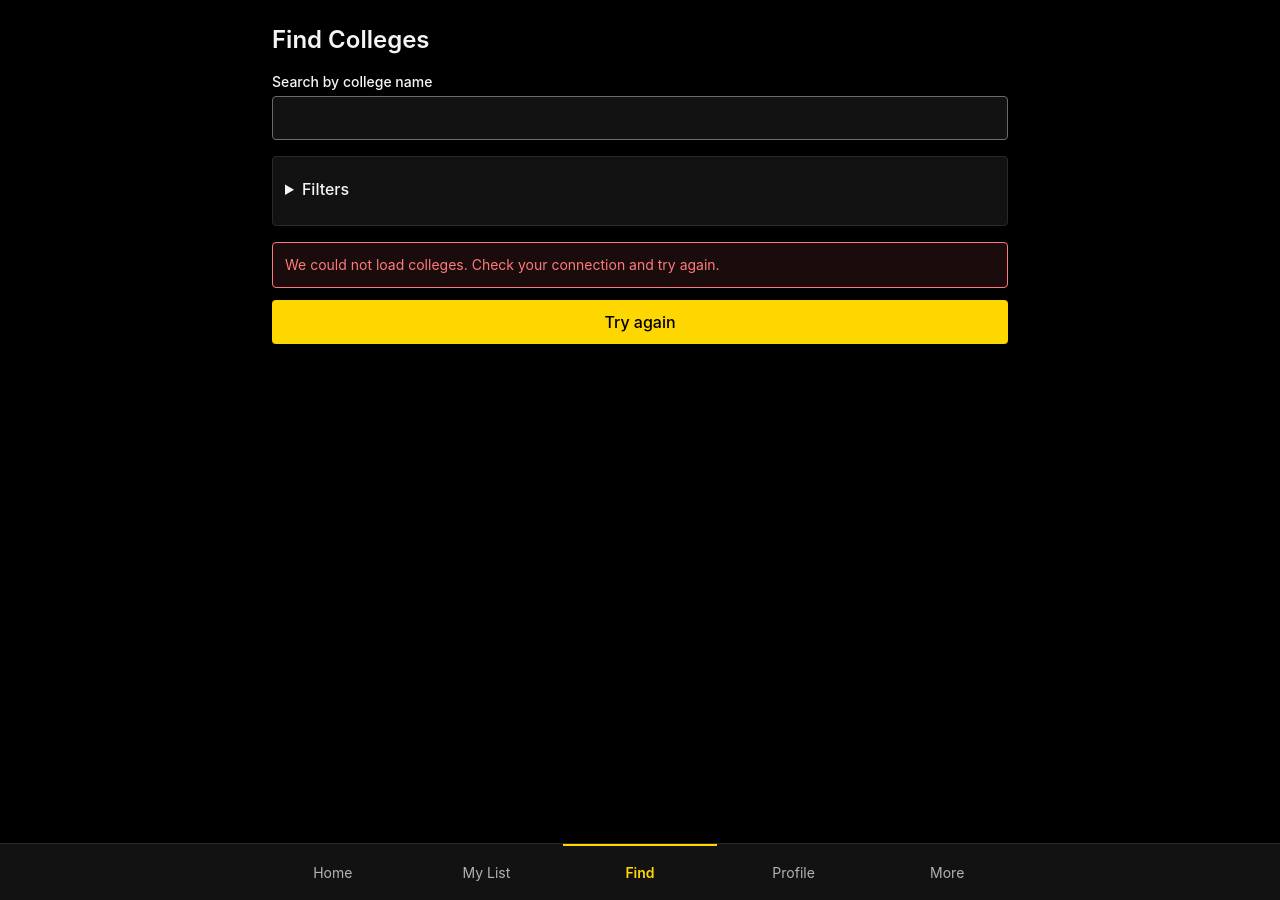
Test: Find Colleges: results › offers a retry when the search fails
This screenshot has width=1280, height=900.
Expected: the message shows "We could not load colleges", left=285, top=256, right=720, bottom=273
Click the button "Try again". click: (640,322)
box: left=272, top=300, right=1008, bottom=344
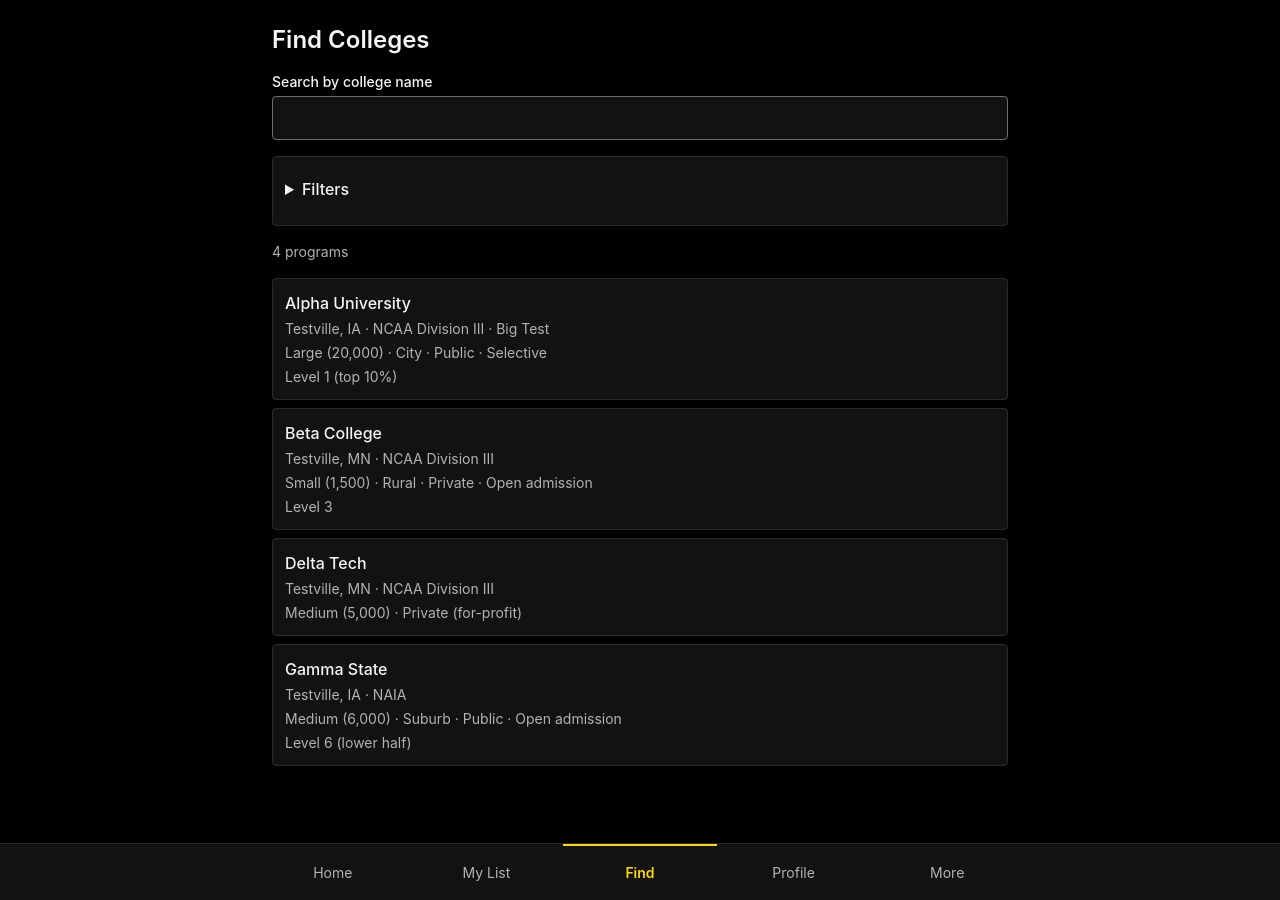
Expected: the text "4 programs" is shown, left=272, top=243, right=348, bottom=260
